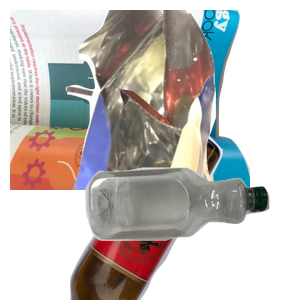glass: (67, 120, 282, 300)
paper: (10, 10, 250, 190)
plastic: (83, 165, 300, 300)
trash: (63, 10, 300, 190)
